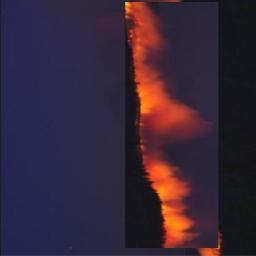Large fire: (126, 1, 210, 247)
